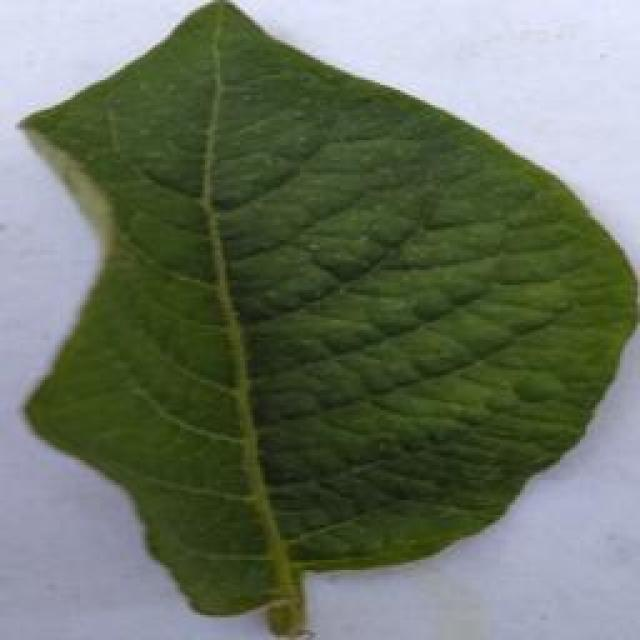Potato_Healthy: (16, 1, 630, 629)
